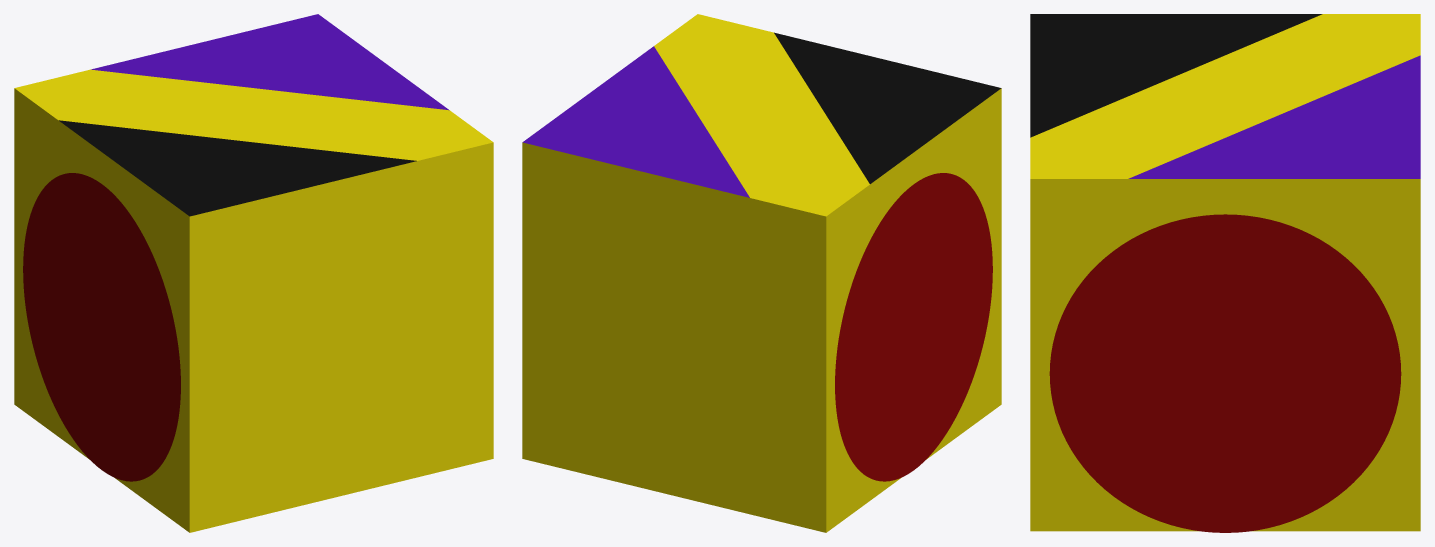
File: Yellow1.FBX
The picture shows the model from 3 angles, left to right: view 1: azimuth 30°, elevation 25°; view 2: azimuth 150°, elevation 25°; view 3: azimuth 270°, elevation 25°; orthographic projection. The views are drawn at different scales.
Parts seen in each view (by area): view 1: Body, WheelR; view 2: Body, WheelR; view 3: Body, WheelL.
Part boxes in pixels (<box>): Body: <box>14,14,493,532</box>; WheelR: <box>23,173,180,481</box>; Body: <box>522,14,1001,532</box>; WheelR: <box>835,173,992,481</box>; Body: <box>1030,14,1420,531</box>; WheelL: <box>1049,214,1401,532</box>.
Bounding box in the file's own units: 7.87 × 7.87 × 7.87.
